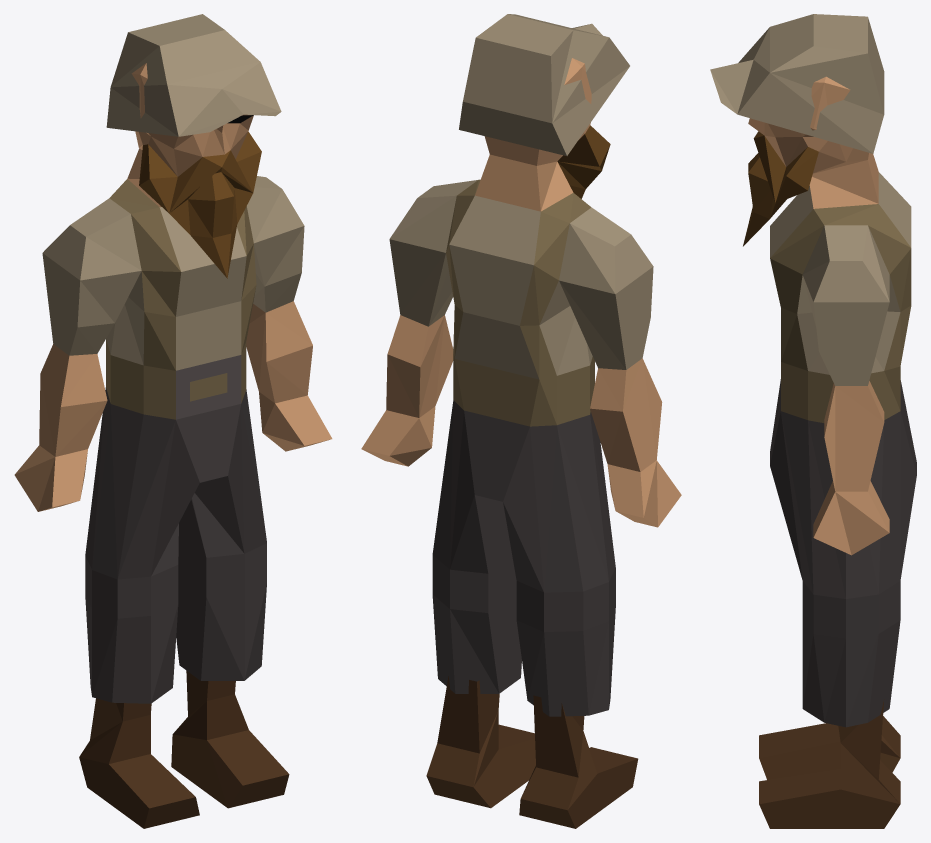
The model's file is blast-furnace.gltf.
3 views of the same model, side by side, from view 1: azimuth 30°, elevation 25°; view 2: azimuth 150°, elevation 25°; view 3: azimuth 270°, elevation 25° (orthographic).
Size of the model in its own units: 60 by 155 by 38.
1 material, 1 textured.
